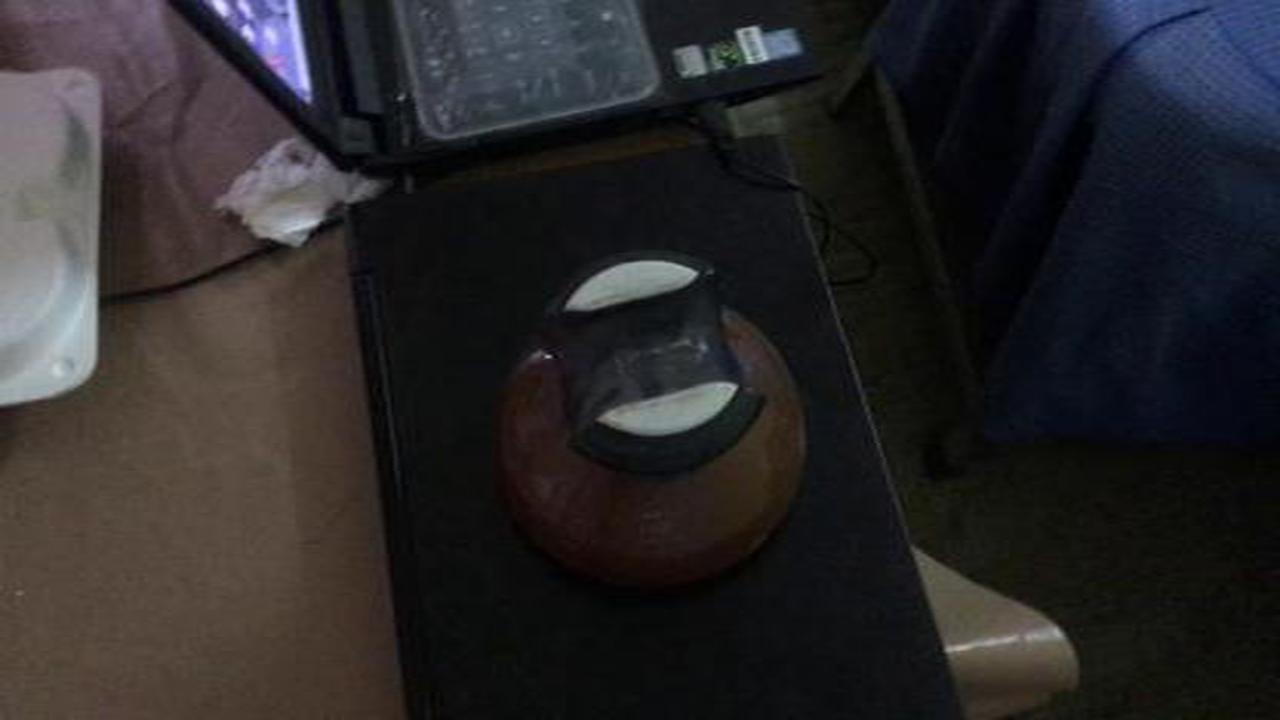insulator_pin: (465, 223, 847, 620)
